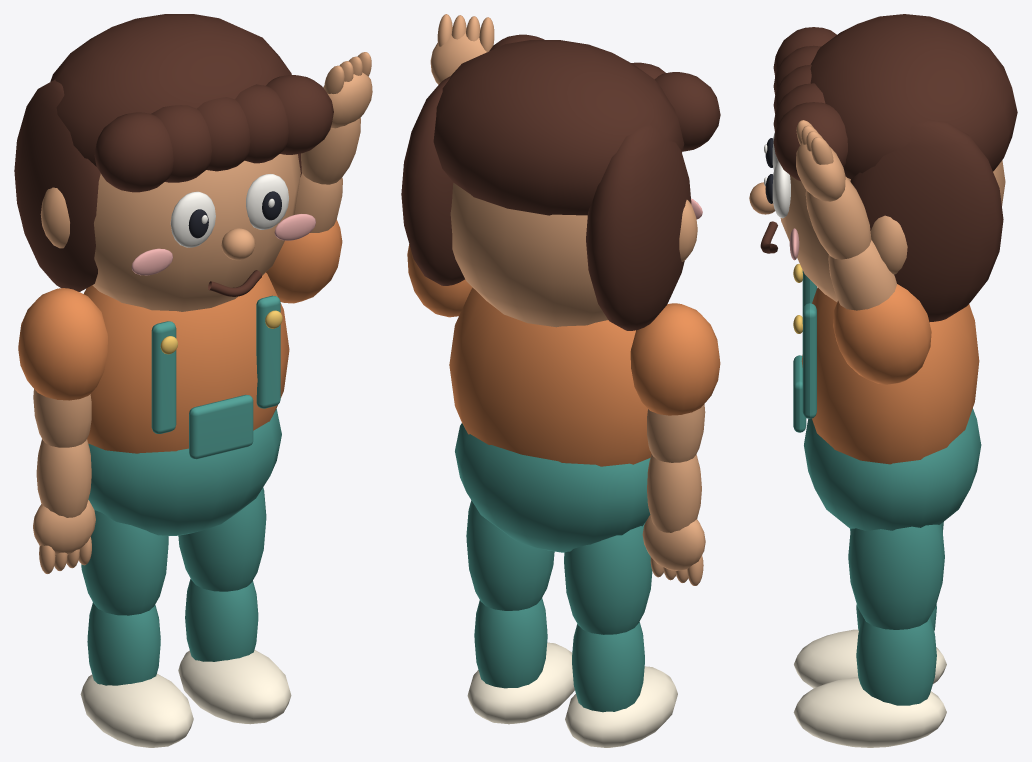
The model's file is ava-wave.glb.
3 renders of one model, left to right at view 1: azimuth 30°, elevation 25°; view 2: azimuth 150°, elevation 25°; view 3: azimuth 270°, elevation 25°, orthographic.
Parts seen in each view (by area): view 1: soft shirt, hair cap, clay head, overalls, bob hair, shirt sleeve, trouser leg, little shoe, little shoe.001, trouser leg.001, fringe, lower leg.001 (+22 smaller); view 2: hair cap, soft shirt, bob hair, overalls, clay head, shirt sleeve, trouser leg, bob hair.001, trouser leg.001, lower leg.001, lower leg, little shoe (+8 smaller); view 3: hair cap, bob hair.001, soft shirt, overalls, trouser leg.001, little shoe.001, shirt sleeve.001, lower leg.001, forearm.001, upper arm.001, little shoe, fringe.004 (+12 smaller).
Part boxes in pixels (x1,y1,x2,y2): soft shirt: (84,272,289,453); hair cap: (50,14,291,166); clay head: (92,154,300,311); overalls: (88,409,281,536); bob hair: (14,79,100,291); shirt sleeve: (18,288,107,400); trouser leg: (81,510,168,615); little shoe: (80,673,193,747); little shoe.001: (178,649,291,724); trouser leg.001: (178,487,266,591); fringe: (94,112,173,192); lower leg.001: (185,578,258,661); hair cap: (433,40,684,215); soft shirt: (449,287,651,466); bob hair: (586,125,691,330); overalls: (455,423,650,552); clay head: (450,183,607,327); shirt sleeve: (630,303,720,415); trouser leg: (564,522,652,634); bob hair.001: (401,76,464,285); trouser leg.001: (466,500,554,610); lower leg.001: (474,598,547,688); lower leg: (572,622,644,712); little shoe: (565,666,677,747); hair cap: (810,14,1017,178); bob hair.001: (850,121,1003,322); soft shirt: (801,287,979,464); overalls: (804,408,981,530); trouser leg.001: (848,524,944,629); little shoe.001: (793,677,946,747); shirt sleeve.001: (833,284,931,384); lower leg.001: (856,617,936,705); forearm.001: (805,177,871,259); upper arm.001: (828,240,896,310); little shoe: (794,629,946,688); fringe.004: (773,102,847,180).
Size of the model in its own units: 0.8987 by 1.87 by 0.665.
